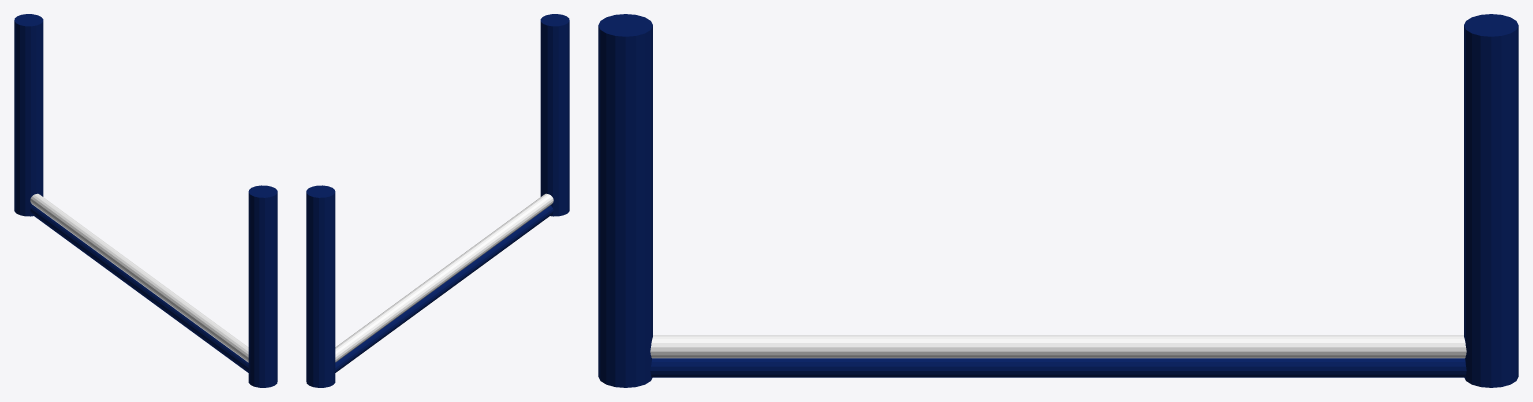
File: board (1).fbx
3 renders of one model, left to right at view 1: azimuth 30°, elevation 25°; view 2: azimuth 150°, elevation 25°; view 3: azimuth 270°, elevation 25°, orthographic. The views are drawn at different scales.
Parts seen in each view (by area): view 1: Plane.003; view 2: Plane.003; view 3: Plane.003.
Boxes of the visible parts, x1,y1,x2,y2 form: Plane.003: (14,14,277,387); Plane.003: (306,14,569,387); Plane.003: (598,14,1518,387).
Bounding box in the file's own units: 38.53 × 277 × 658.
